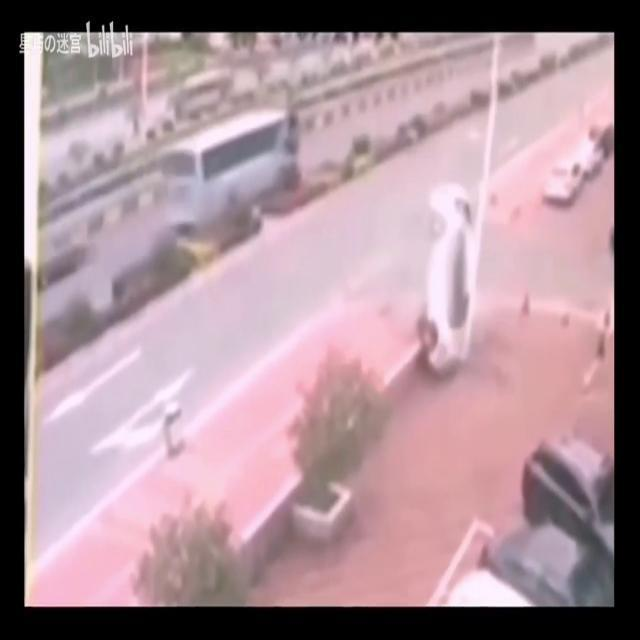accident: (405, 179, 491, 387)
non-accident: (542, 120, 612, 208)
